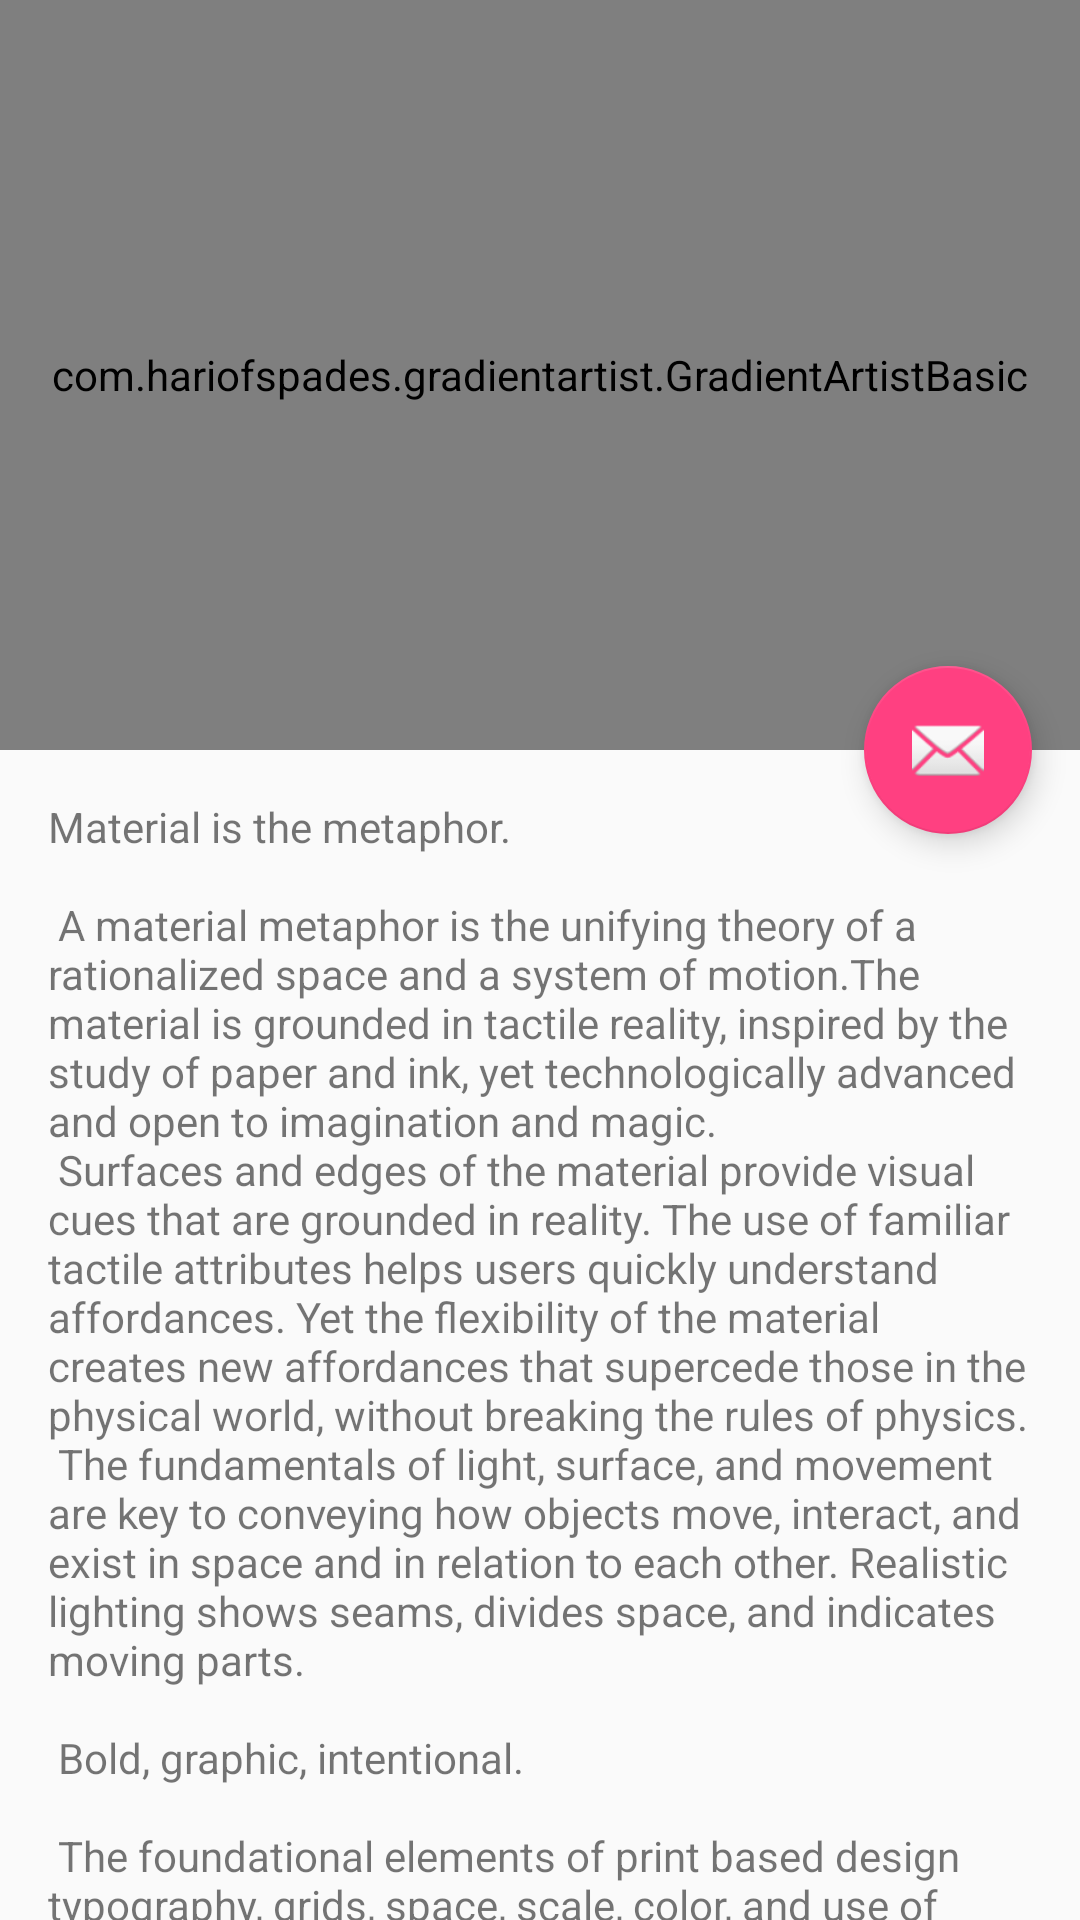

Point at icon controls on the screen. Image size 1080*1920, points as point (x, y).
email: point (948, 750)
